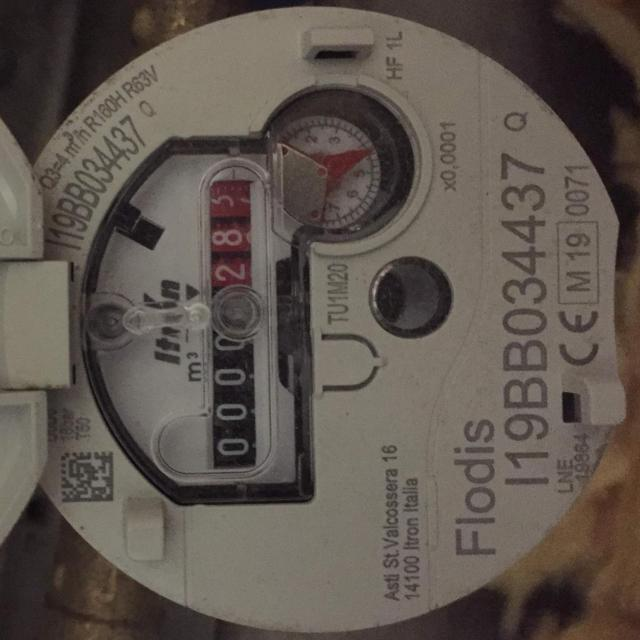gaz_meter: (37, 6, 622, 637)
indication: (205, 172, 266, 468)
